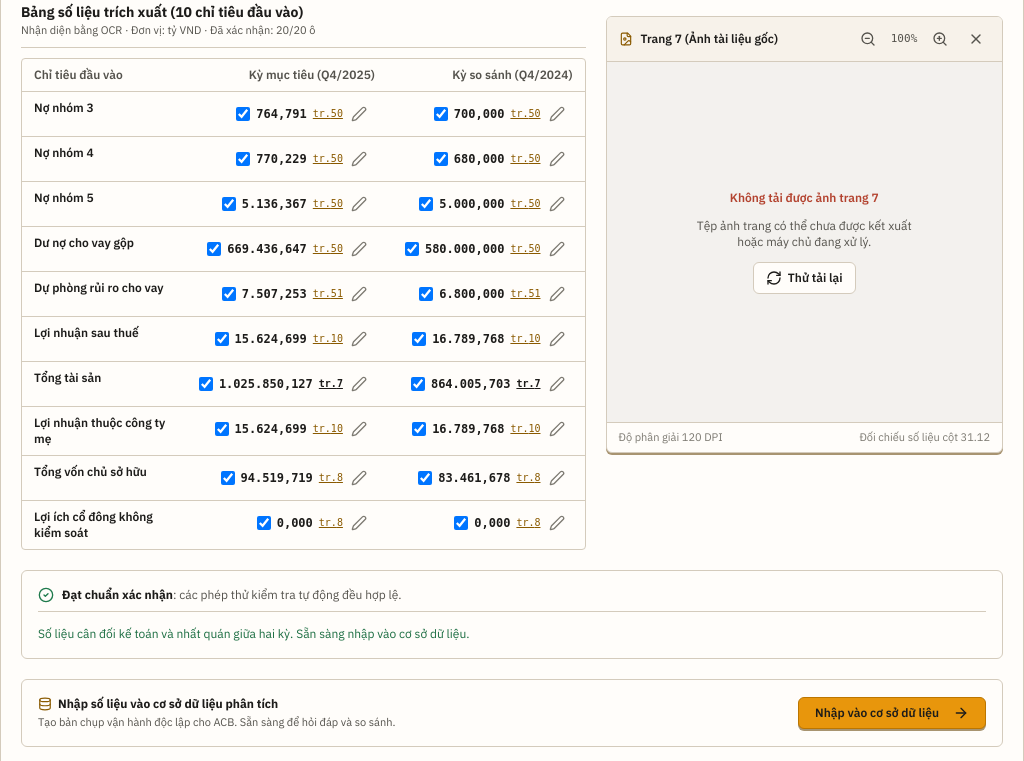
FilingWizard (INGEST-3) › allows confirming a filing and renders recomputed metrics result
(page scrolled)
Click the button with test id "confirm-filing-button" at (892, 713), box [798,697,986,729]
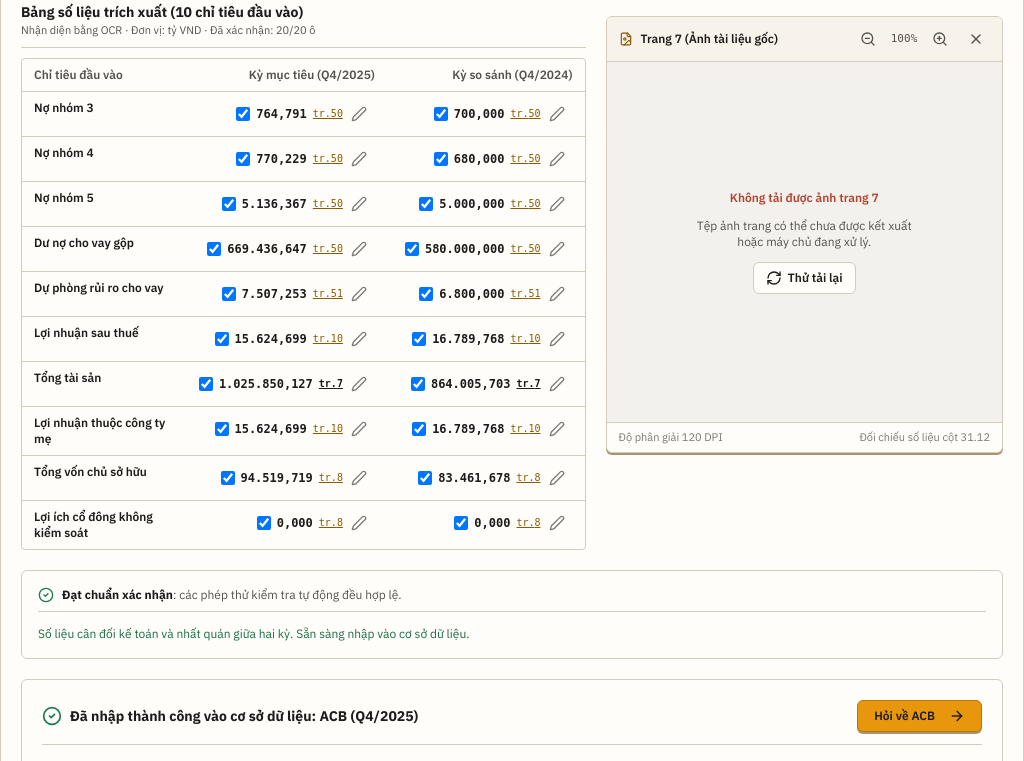
Expected: the heading "Đã nhập thành công vào cơ sở dữ liệu: ACB (Q4/2025)" is shown, [70,706,418,726]
Expected: the button with test id "ask-about-bank-button" is shown, [857,700,982,732]
